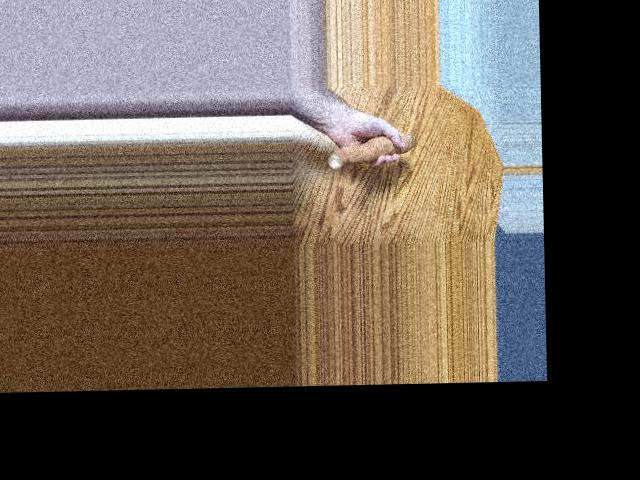sweet_potato: (320, 128, 408, 165)
